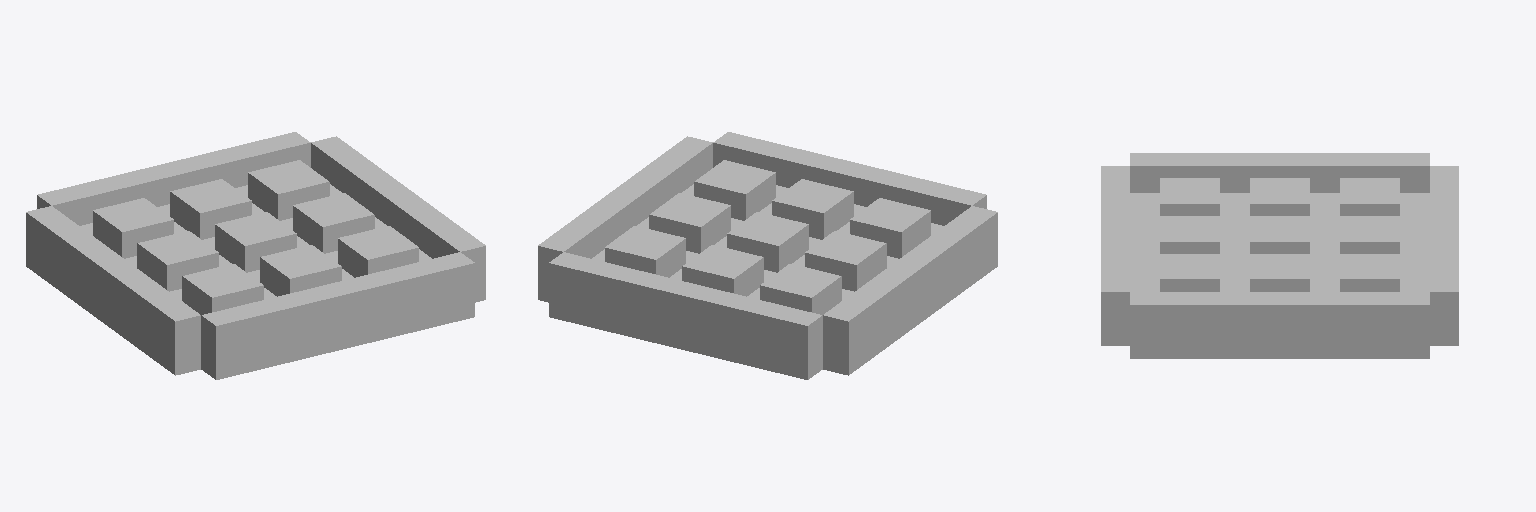
The model's file is cooking_baking_tray_pieces.obj.
3 views of the same model, side by side, from view 1: azimuth 30°, elevation 25°; view 2: azimuth 150°, elevation 25°; view 3: azimuth 270°, elevation 25° (orthographic).
Parts seen in each view (by area): view 1: node_0_0_0.004, node_0_0_0.006; view 2: node_0_0_0.004, node_0_0_0.006; view 3: node_0_0_0.004, node_0_0_0.006.
Part boxes in pixels (bbox=[...]): node_0_0_0.004: bbox=[26, 132, 485, 379]; node_0_0_0.006: bbox=[93, 160, 418, 314]; node_0_0_0.004: bbox=[538, 132, 997, 379]; node_0_0_0.006: bbox=[605, 160, 930, 314]; node_0_0_0.004: bbox=[1101, 153, 1458, 358]; node_0_0_0.006: bbox=[1160, 178, 1399, 291].
Bounding box in the file's own units: 0.75 × 0.125 × 0.75.